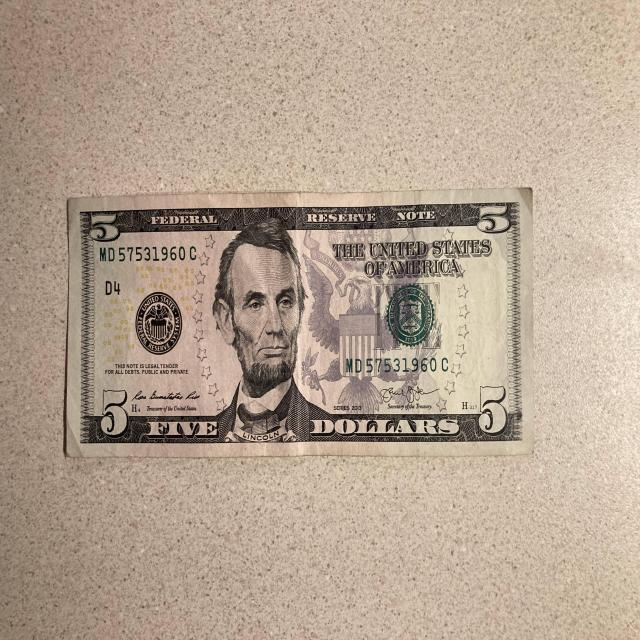five: (63, 186, 535, 458)
